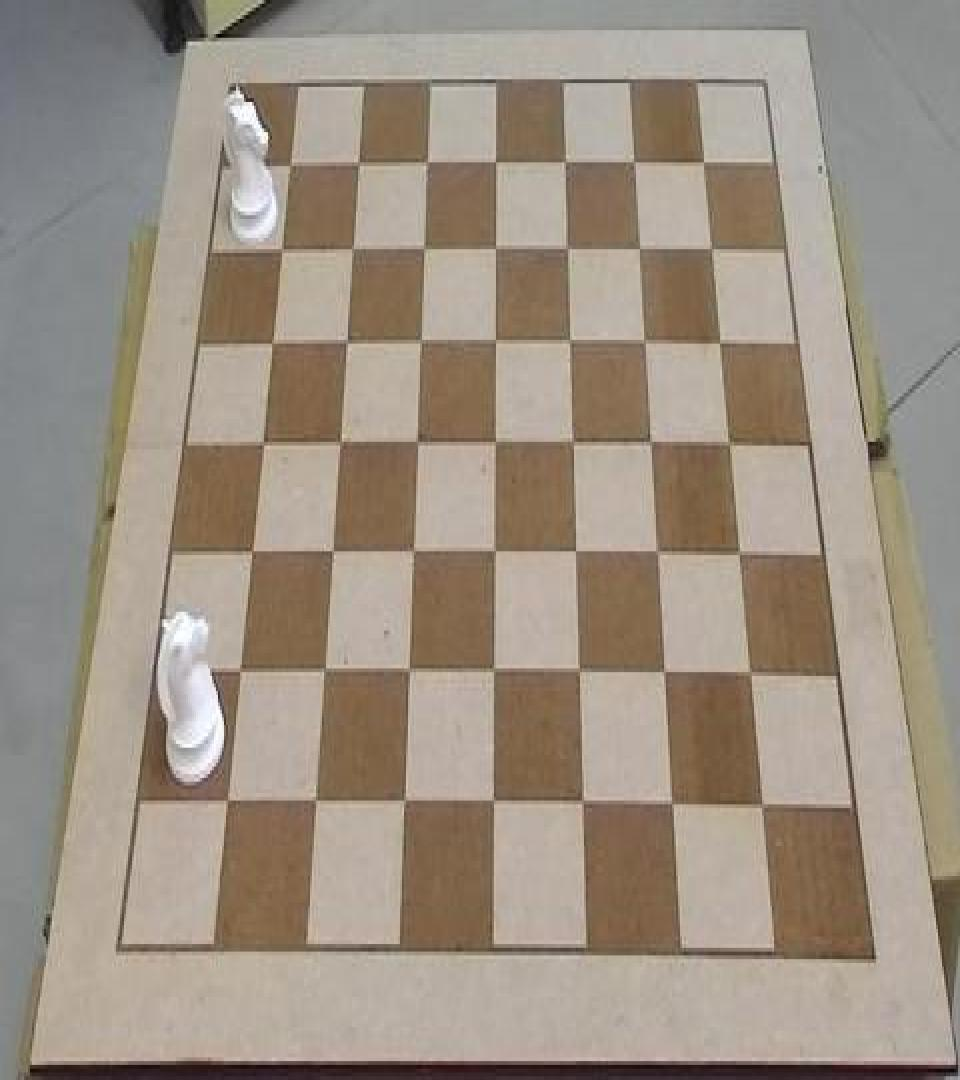xcorner: (417, 139, 437, 178), (348, 139, 368, 178), (279, 139, 299, 178), (693, 144, 713, 182), (624, 144, 644, 182), (555, 142, 575, 180), (486, 142, 506, 180), (701, 230, 721, 268), (630, 230, 650, 268), (558, 228, 578, 266), (486, 228, 506, 266), (414, 226, 434, 264), (343, 226, 363, 264), (271, 224, 291, 262), (710, 324, 730, 362), (635, 322, 655, 360), (561, 322, 581, 360), (486, 321, 506, 359), (411, 321, 431, 359), (337, 319, 357, 357), (262, 319, 282, 357), (720, 426, 740, 464), (642, 424, 662, 462), (564, 423, 584, 461), (486, 423, 506, 461), (408, 421, 428, 459), (330, 421, 350, 459), (253, 419, 273, 457), (730, 536, 750, 574), (649, 536, 669, 574), (567, 534, 587, 572), (486, 532, 506, 570), (405, 532, 425, 570), (323, 530, 343, 568), (242, 530, 262, 568), (742, 657, 762, 695), (656, 657, 676, 695), (571, 655, 591, 693), (486, 653, 506, 691), (401, 653, 421, 691), (316, 652, 336, 690), (231, 652, 251, 690), (754, 791, 774, 829), (665, 789, 685, 827), (575, 789, 595, 827), (486, 787, 506, 825), (397, 786, 417, 824), (307, 784, 327, 822), (218, 784, 238, 822)
